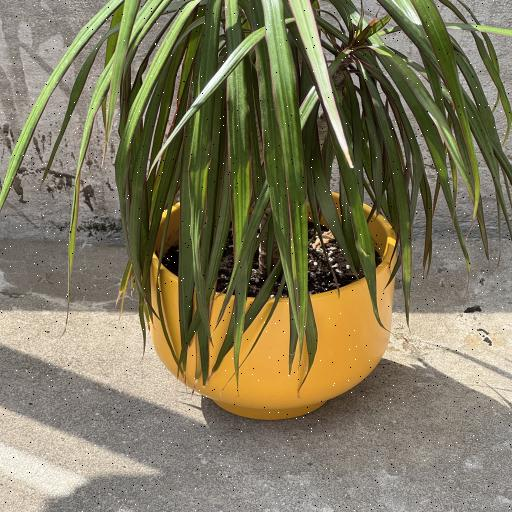Plant Pot: (151, 190, 399, 421)
